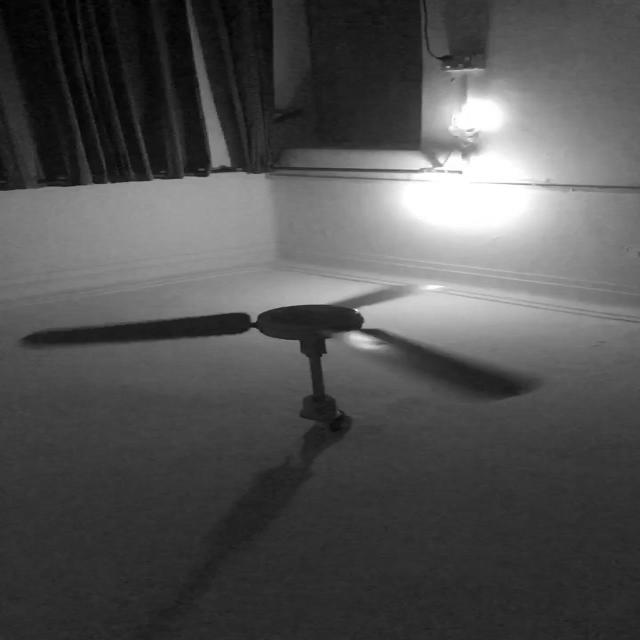fan: (24, 276, 554, 406)
